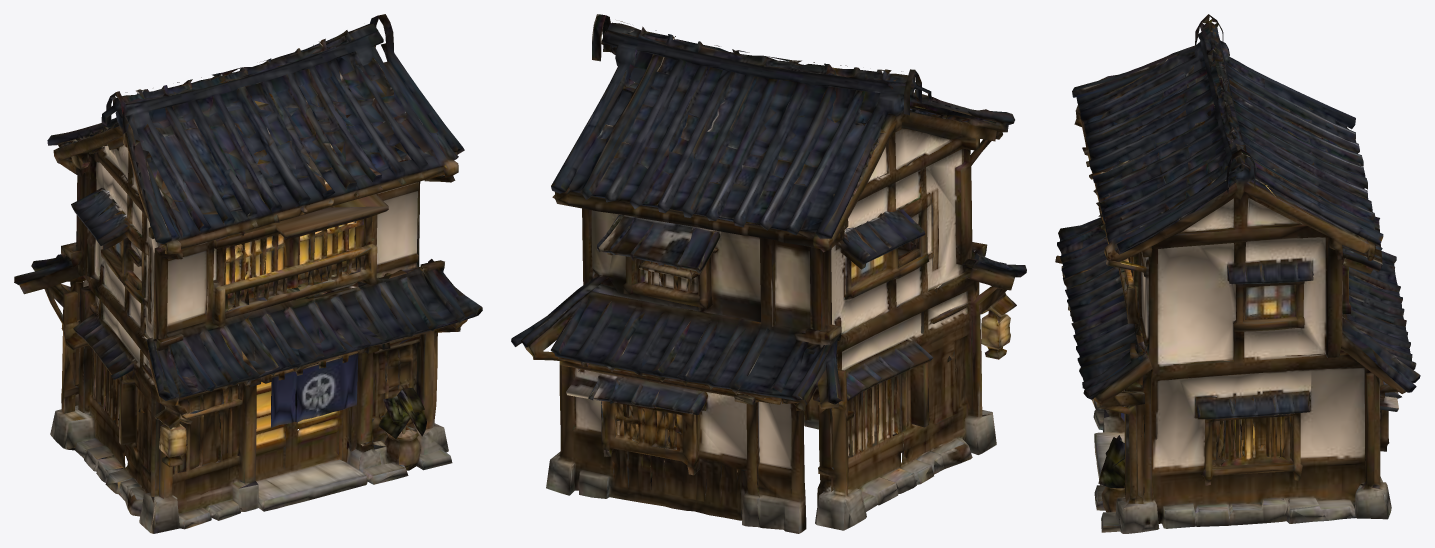
Rendered from villa_2.glb.
The picture shows the model from 3 angles, left to right: view 1: azimuth 30°, elevation 25°; view 2: azimuth 150°, elevation 25°; view 3: azimuth 270°, elevation 25°; orthographic projection. The views are drawn at different scales.
Visible parts, largest first — view 1: compact__villa_2__neural_lod; view 2: compact__villa_2__neural_lod; view 3: compact__villa_2__neural_lod.
Boxes of the visible parts, box(x1,y1,x2,y2) form: compact__villa_2__neural_lod: box(14, 14, 482, 533); compact__villa_2__neural_lod: box(511, 14, 1026, 533); compact__villa_2__neural_lod: box(1055, 14, 1420, 533).
Size of the model in its own units: 0.8817 by 0.9995 by 0.855.
1 material, 1 textured.
